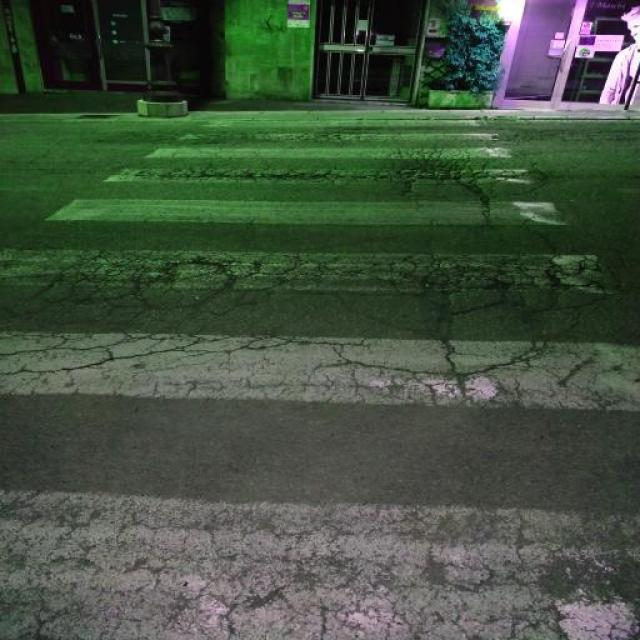crosswalk: (0, 119, 640, 640)
